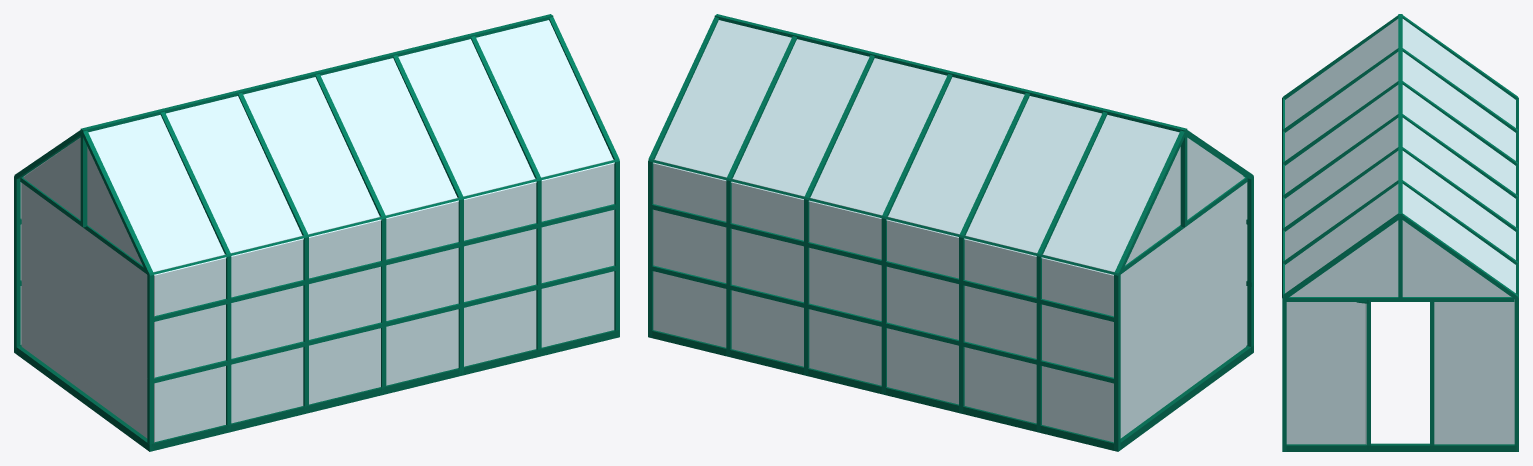
File: greenhouse.glb
3 renders of one model, left to right at view 1: azimuth 30°, elevation 25°; view 2: azimuth 150°, elevation 25°; view 3: azimuth 270°, elevation 25°, orthographic. The views are drawn at different scales.
Parts seen in each view (by area): view 1: SM_Map_Greenhouse_5x3m.049; view 2: SM_Map_Greenhouse_5x3m.049; view 3: SM_Map_Greenhouse_5x3m.049.
Part boxes in pixels (x1,y1,x2,y2): SM_Map_Greenhouse_5x3m.049: [14, 14, 619, 451]; SM_Map_Greenhouse_5x3m.049: [648, 14, 1253, 451]; SM_Map_Greenhouse_5x3m.049: [1282, 14, 1518, 451].
Size of the model in its own units: 5 by 2.77 by 2.5.
